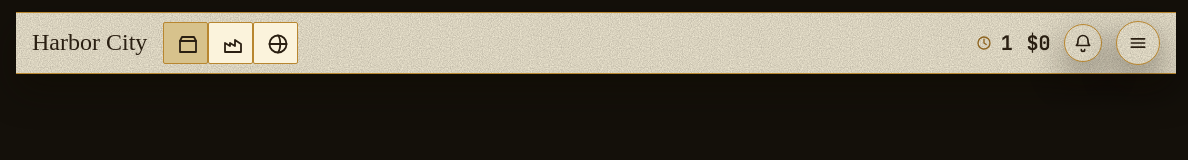
Test: TopBar › shows a "No alerts" message when the popover is opened with zero alerts
What coordinates should you click on to do the following:
click the button named "alerts"
I would click on:
 (1083, 43)
Its box is [1064,24,1102,62].
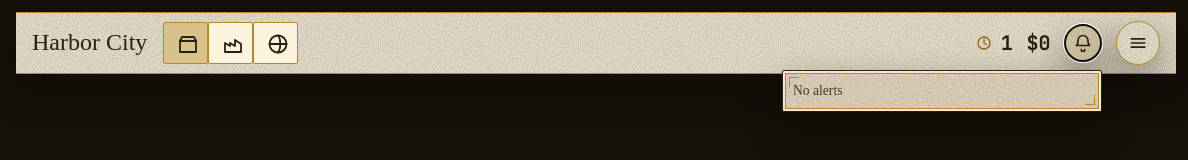
Check: the text "No alerts" is shown, box [793,83,842,98]
